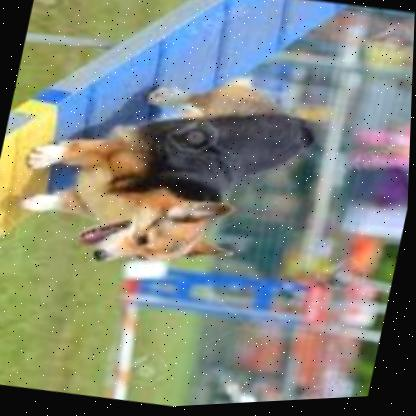dog: (4, 40, 327, 299)
